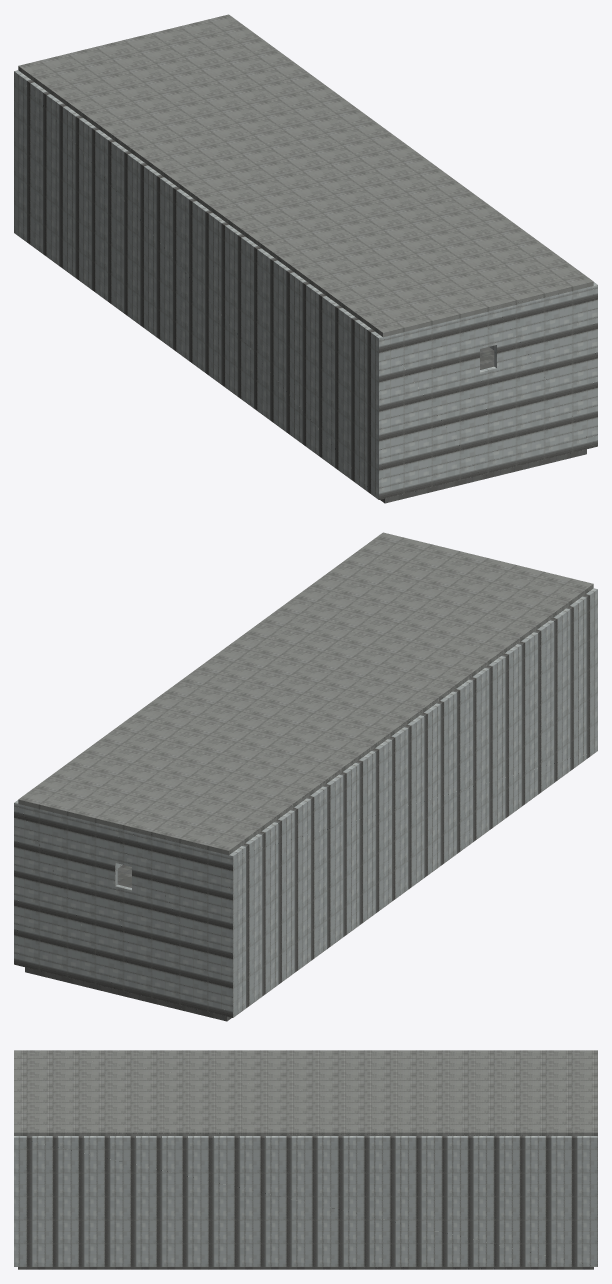
Rendered from shell_span_basin.glb.
The picture shows the model from 3 angles, top to bottom: view 1: azimuth 30°, elevation 25°; view 2: azimuth 150°, elevation 25°; view 3: azimuth 270°, elevation 25°; orthographic projection. The views are drawn at different scales.
Parts seen in each view (by area): view 1: sp; view 2: sp; view 3: sp.
Boxes of the visible parts, <box> form: sp: <box>14,14,597,503</box>; sp: <box>14,532,597,1021</box>; sp: <box>14,1050,597,1269</box>.
Size of what is drawn, in the model's own units: 31.2 by 23.6 by 90.
56 materials, 56 textured.
